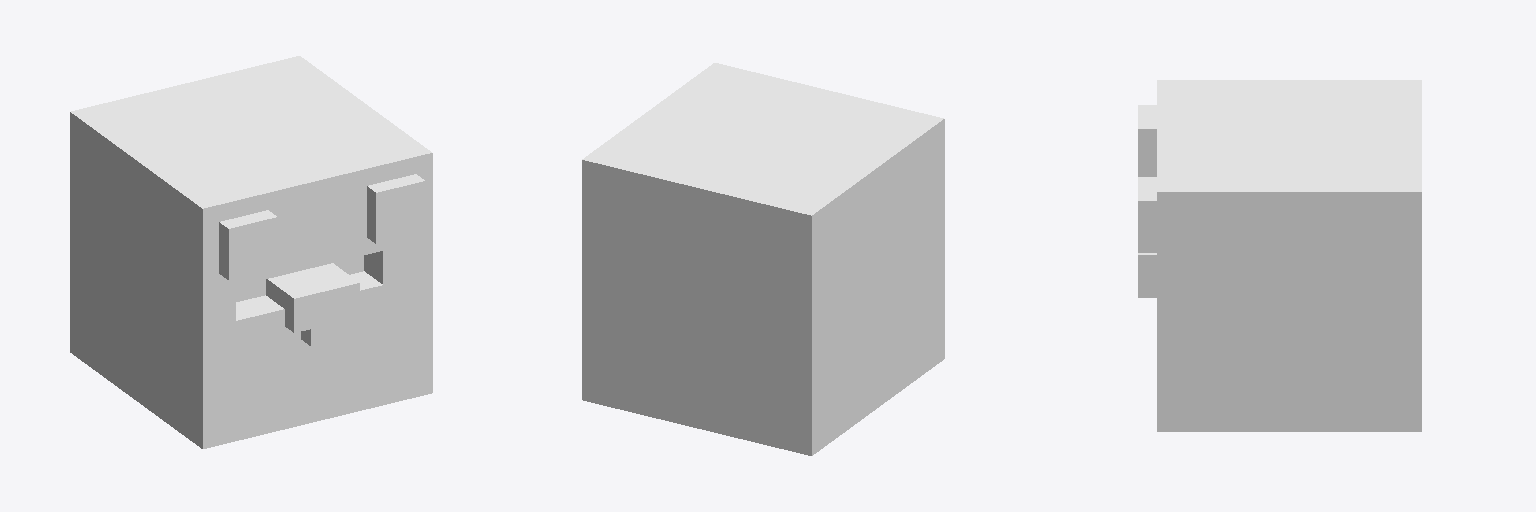
The model's file is bomb0.obj.
3 views of the same model, side by side, from view 1: azimuth 30°, elevation 25°; view 2: azimuth 150°, elevation 25°; view 3: azimuth 270°, elevation 25° (orthographic).
Bounding box in the file's own units: 14 × 14 × 15.